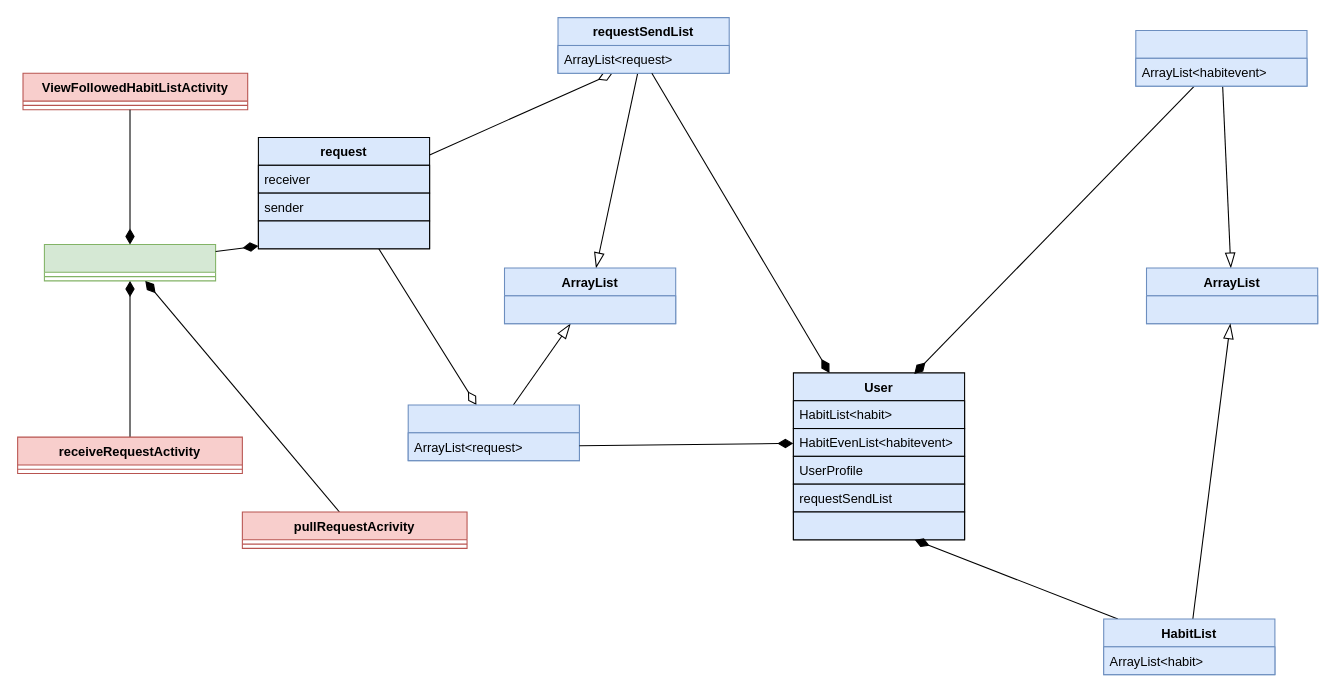
The diagram is 1335 pixels wide and 692 high, and some of its shapes have lost their labels. Each missing label, with the box of its shape:
HabitEventList: (1135, 29, 1307, 86)
requestAdapter: (43, 243, 216, 281)
requestReceivedList: (792, 511, 965, 540)
requestReceiveList: (407, 404, 579, 461)
requestStatus: (257, 220, 430, 249)
